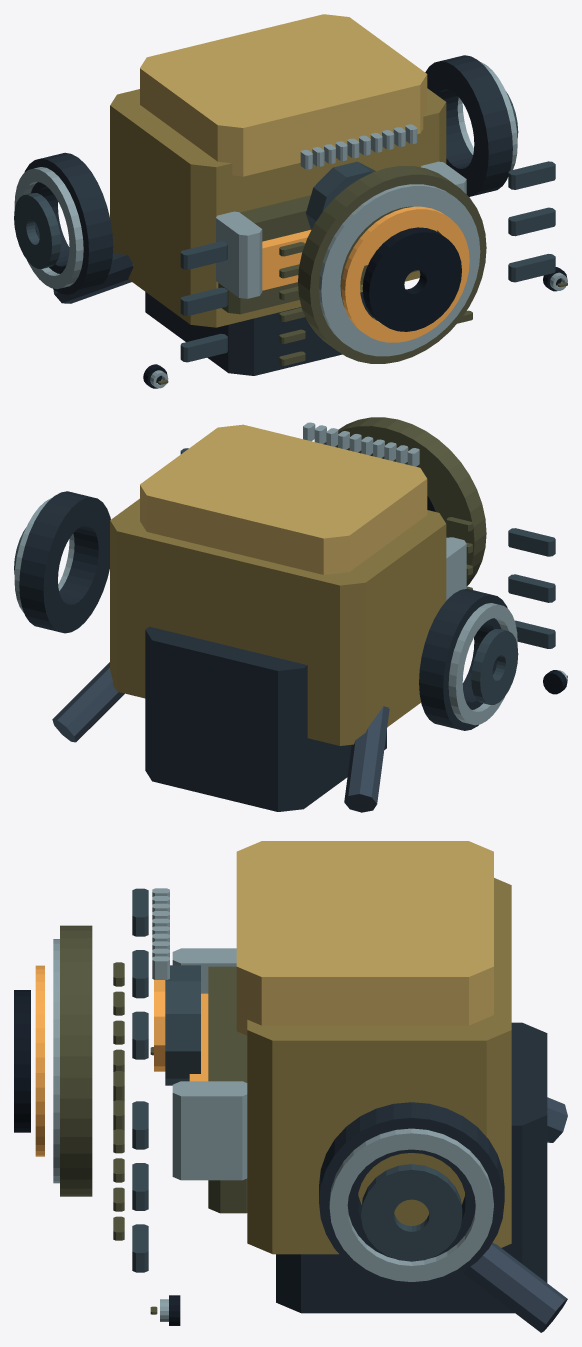
The model's file is enemy_gunner_4k_head.obj.
3 views of the same model, one above another, from view 1: azimuth 30°, elevation 25°; view 2: azimuth 150°, elevation 25°; view 3: azimuth 270°, elevation 25° (orthographic). The views are drawn at different scales.
Size of the model in its own units: 1 by 0.545 by 0.7758.
